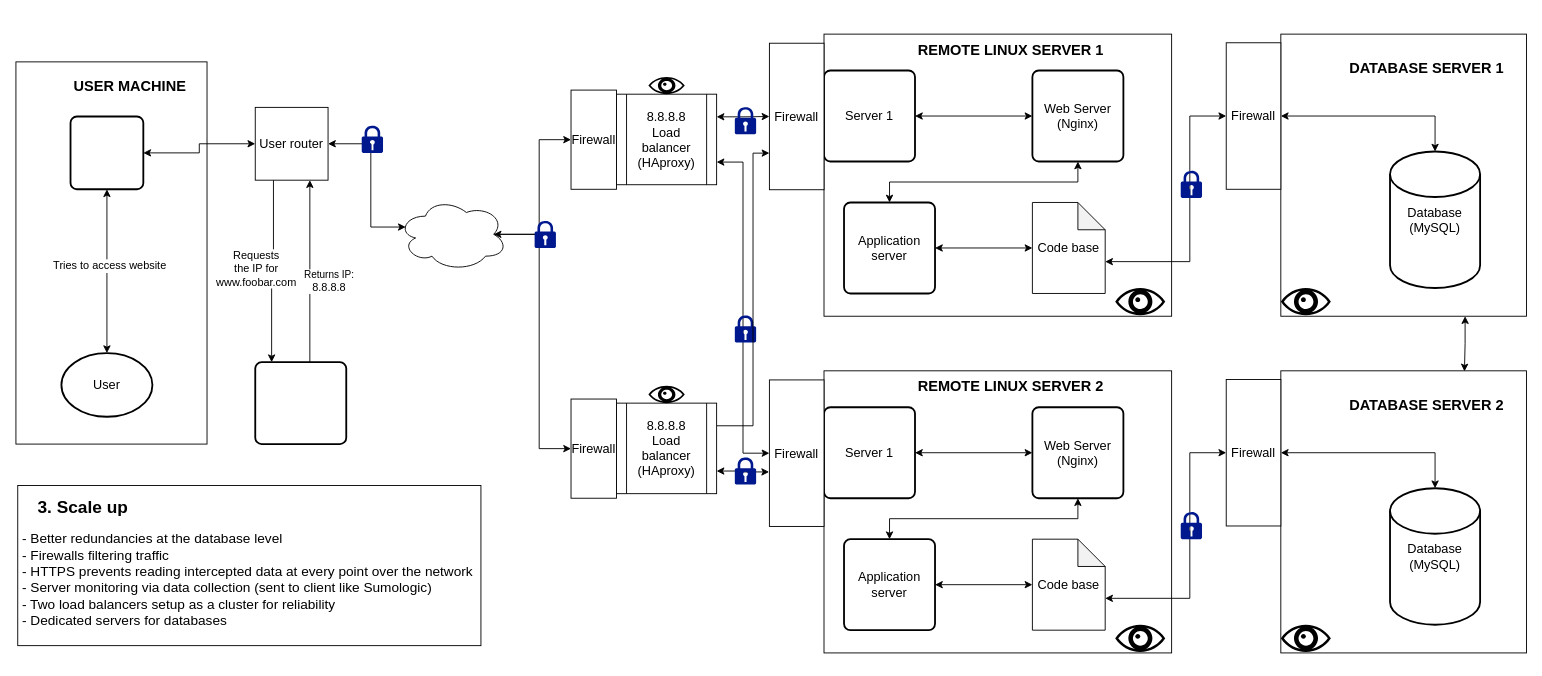
Some shapes in this 1542 by 676 pixel diagram are drawn without their labels. The shapes that lost their labels are listed below. From the top down, each one's centre as x and y in pixels, then its label:
point 106,152: Browser
point 452,234: Internet
point 300,403: DNS server
